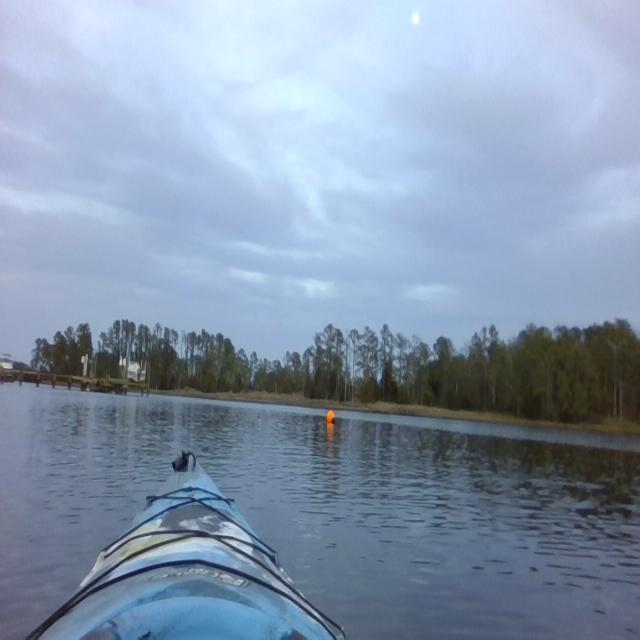Buoy: (325, 407, 337, 426)
